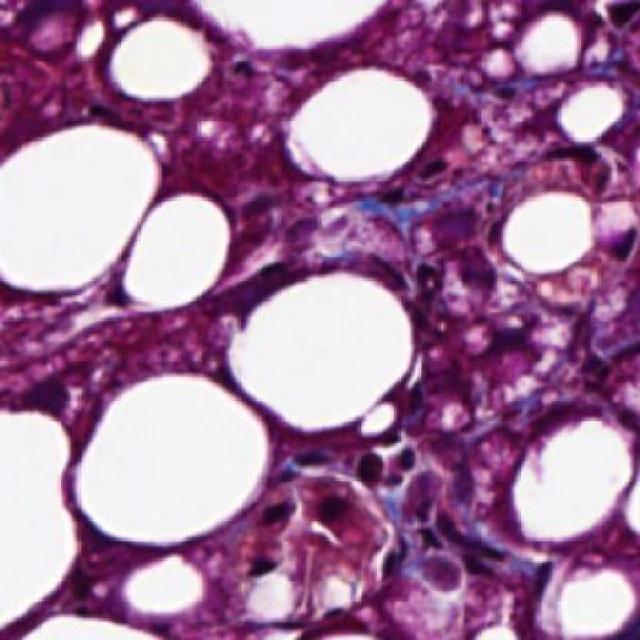inflammation: (446, 63, 598, 170), (342, 432, 482, 538), (397, 198, 505, 306)
